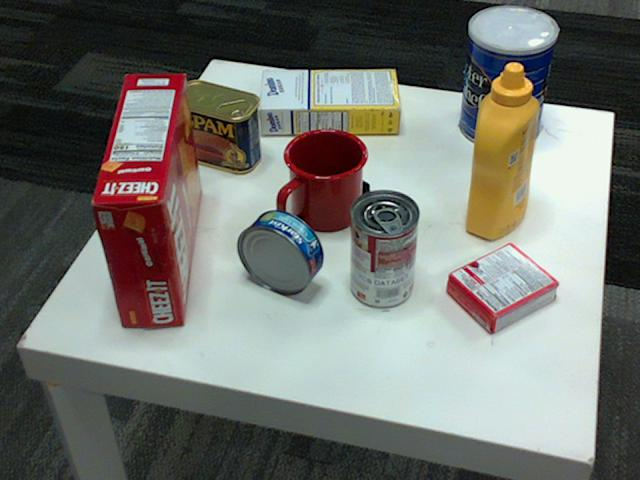cracker_box: (90, 71, 202, 324)
gelatin_box: (446, 243, 559, 333)
large_marker: (293, 142, 367, 195)
master_chef_can: (457, 6, 556, 148)
mug: (280, 126, 369, 228)
mustard_bottle: (464, 63, 539, 238)
potted_meat_can: (170, 81, 261, 173)
sugar_box: (259, 69, 400, 132)
tomato_soup_can: (350, 189, 420, 307)
tuna_fish_can: (238, 209, 324, 294)
